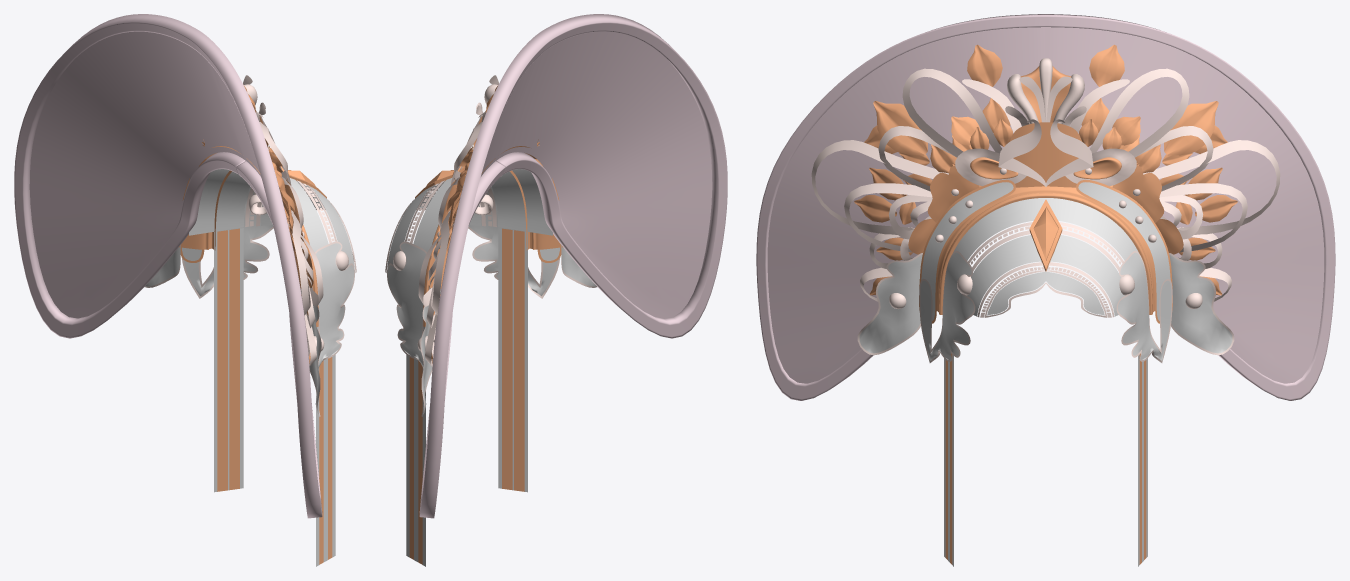
File: Mask1.fbx
3 renders of one model, left to right at view 1: azimuth 30°, elevation 25°; view 2: azimuth 150°, elevation 25°; view 3: azimuth 270°, elevation 25°, orthographic.
Visible parts, largest first — view 1: Circle.023, Circle.017, Circle.021, Circle.020, Circle.018, Circle.009, Circle.028, Circle.008, Листья, Plane.005, Circle.013; view 2: Circle.023, Circle.017, Circle.021, Circle.020, Circle.018, Circle.009, Circle.028, Circle.008, Листья, Plane.005, Circle.013; view 3: Circle.023, Circle.009, Circle.017, Листья, Circle.021, Circle.018, Circle.013, Circle.019, Circle.008, Circle.028, Circle.012, Circle.020 (+9 smaller).
Boxes of the visible parts, x1,y1,x2,y2 form: Circle.023: (29,31,260,318); Circle.017: (14,14,322,518); Circle.021: (145,187,354,566); Circle.020: (217,228,332,564); Circle.018: (189,169,354,271); Circle.009: (256,105,323,366); Circle.028: (145,226,354,416); Circle.008: (179,146,318,326); Листья: (202,86,310,363); Plane.005: (248,194,348,351); Circle.013: (182,154,313,288); Circle.023: (481,31,712,318); Circle.017: (419,14,727,518); Circle.021: (387,187,596,566); Circle.020: (409,228,524,564); Circle.018: (387,169,552,271); Circle.009: (418,105,485,366); Circle.028: (387,226,596,416); Circle.008: (423,146,562,326); Листья: (431,86,539,363); Plane.005: (393,194,493,351); Circle.013: (428,154,559,288); Circle.023: (767,27,1324,383); Circle.009: (811,68,1280,301); Circle.017: (756,14,1335,400); Листья: (854,44,1237,295); Circle.021: (859,252,1232,566); Circle.018: (953,198,1138,316); Circle.013: (908,148,1183,254); Circle.019: (921,182,1170,321); Circle.008: (937,185,1154,314); Circle.028: (857,250,1234,362); Circle.012: (998,119,1093,186); Circle.020: (945,353,1146,564).
Bounding box in the file's own units: 14.44 × 39.11 × 40.19.
